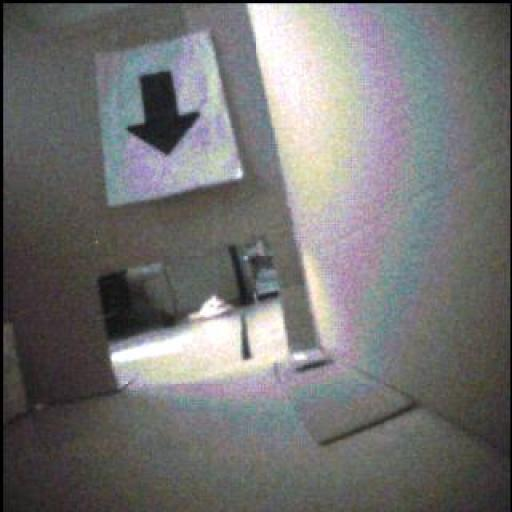arrow: (129, 73, 201, 156)
